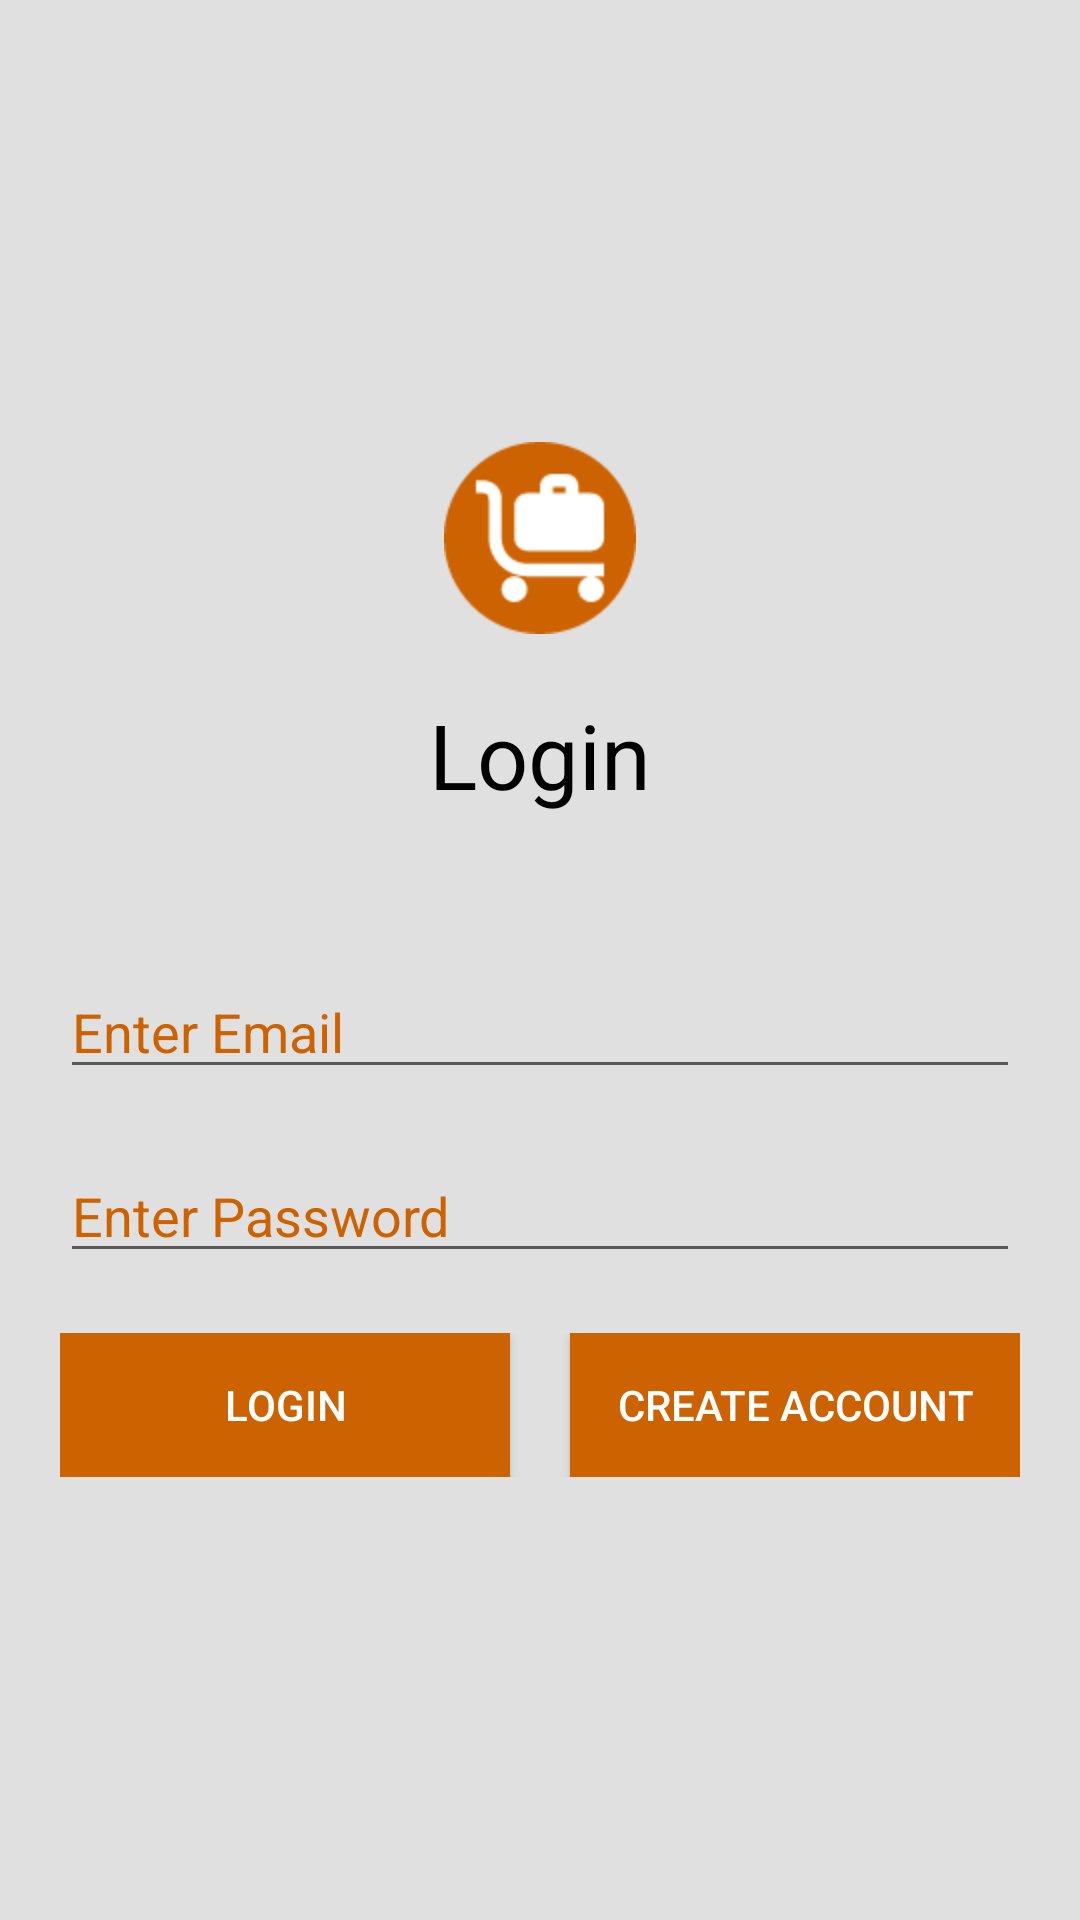

Icon bounding boxes for this 1080w x 1920h phone screenshot, format {"left": x1, "top": y1, "right": x2, "bottom": y2}:
luggage trolley: {"left": 444, "top": 442, "right": 636, "bottom": 634}
